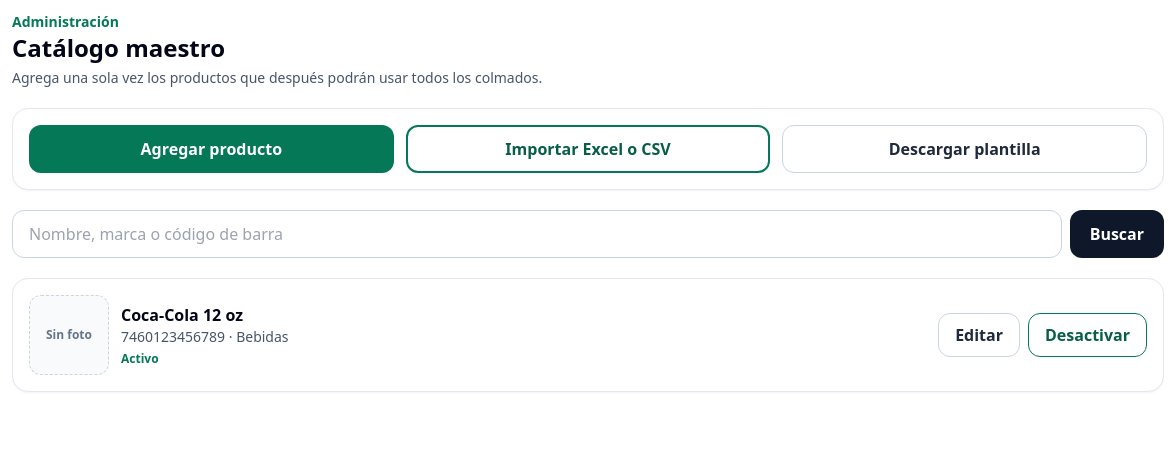
Test case: PlatformCatalogPanel › deactivates an active product
Expected: the heading "Coca-Cola 12 oz" is shown, [121, 304, 243, 326]
Click the button "Desactivar": (1088, 335) [1028, 313, 1147, 357]
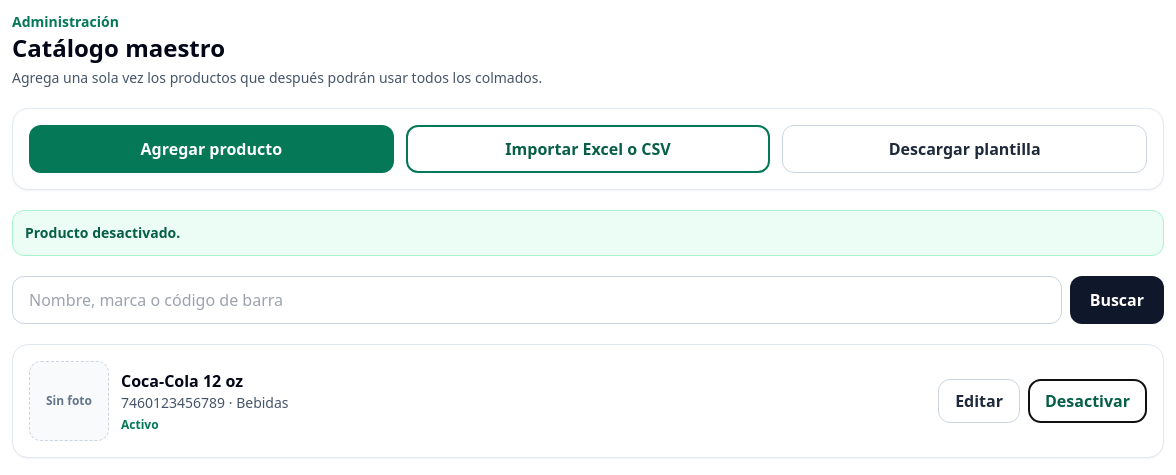
Now the text "Producto desactivado." is shown, box [25, 223, 180, 242]
